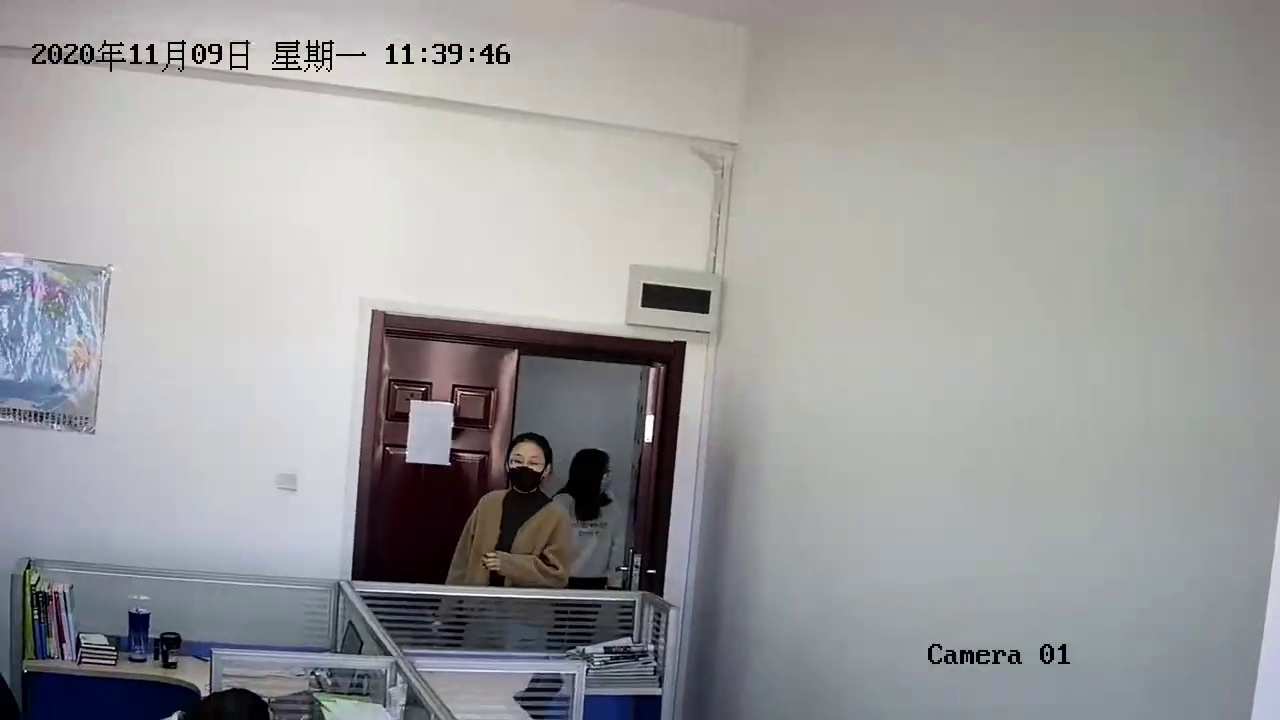mask: (568, 436, 621, 500), (506, 435, 550, 494)
